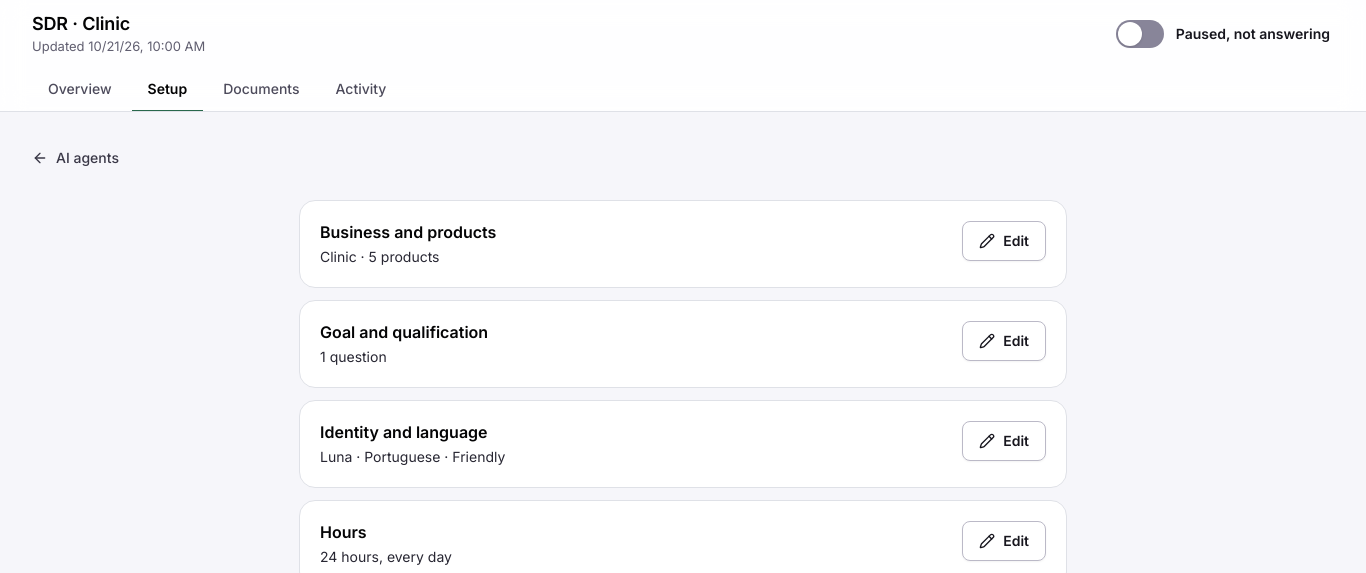
Test: AgentDetail › lists products compactly and tells no value, zero, starting at and on request apart
The width and height of the screenshot is (1366, 573).
Expected: the element "Business and products" shows "5 products", [320,248,440,265]
Click the button with aria-label "Edit Business and products": point(1004, 241) [962,221,1046,261]
(page scrolled)
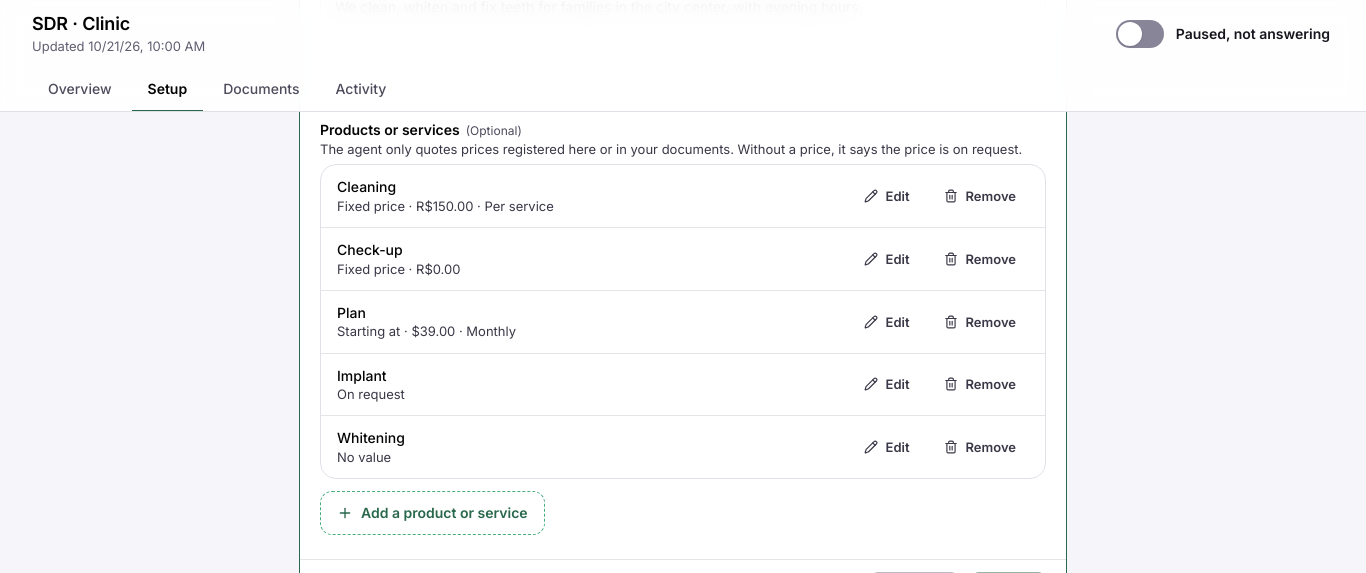
Expected: the text "Fixed price · R$150.00 · Per service" is shown, [337,198,554,214]
Expected: the text "Fixed price · R$0.00" is shown, [337,261,460,277]
Expected: the text "Starting at · $39.00 · Monthly" is shown, [337,323,516,339]
Click the button with aria-label "Remove Implant": point(980, 384) [930,368,1029,400]
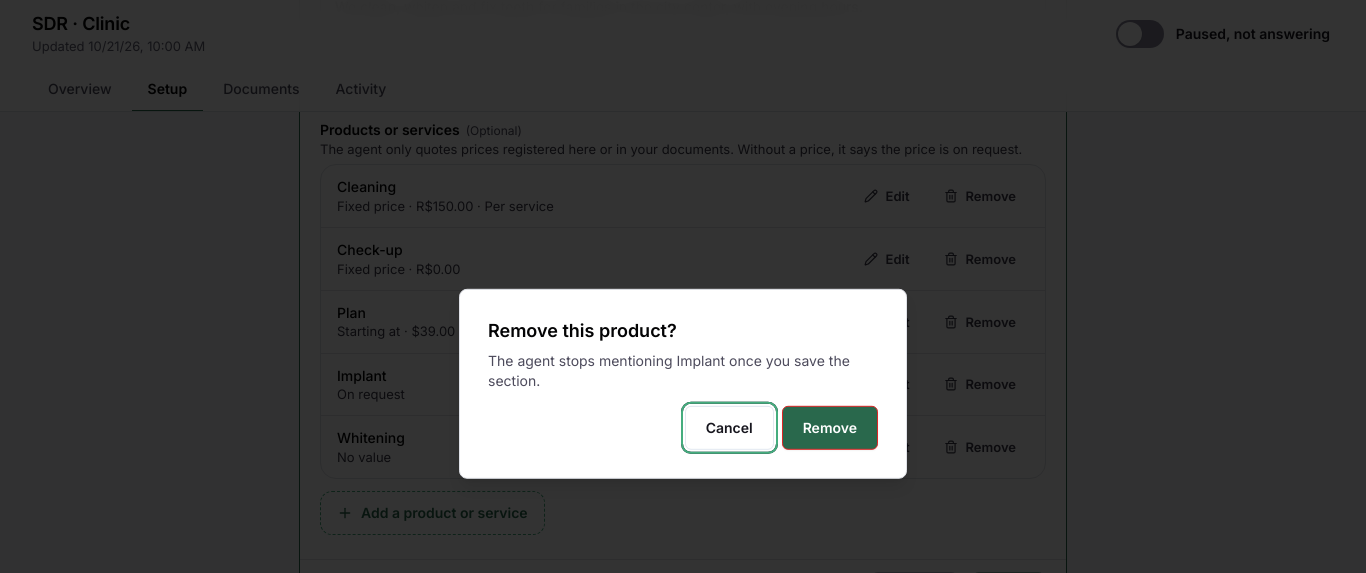
Click the button "Remove": point(830, 428) [782,406,878,450]
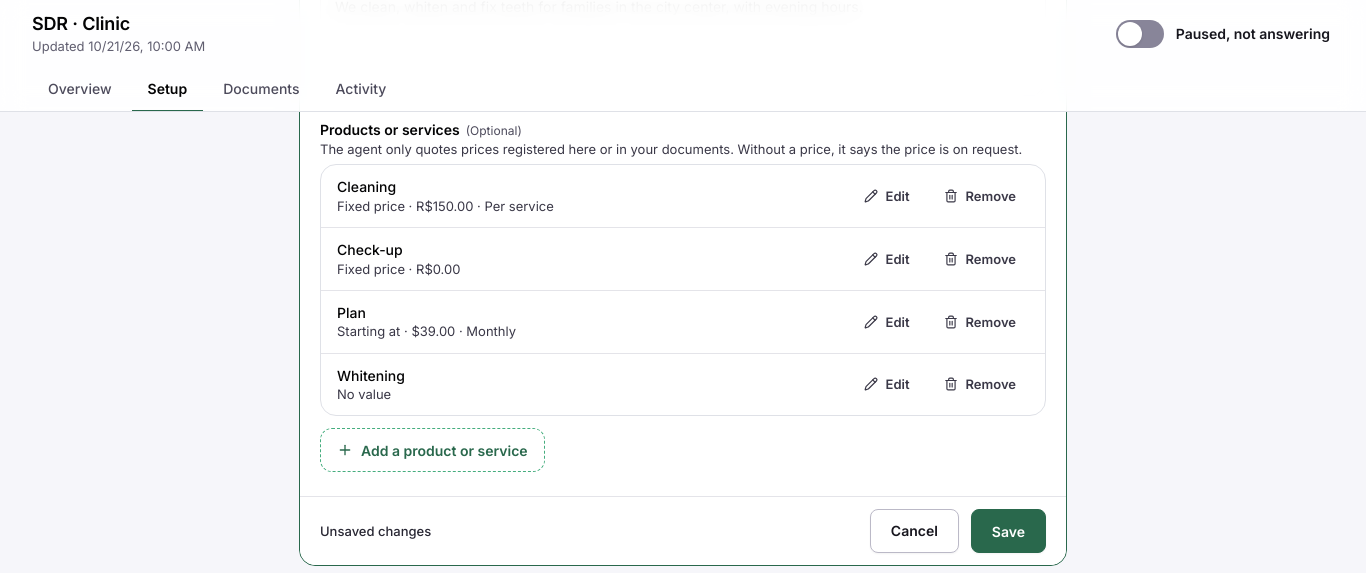
Expected: the text "Implant" is gone
Expected: the text "Unsaved changes" is shown, [320,522,431,540]
